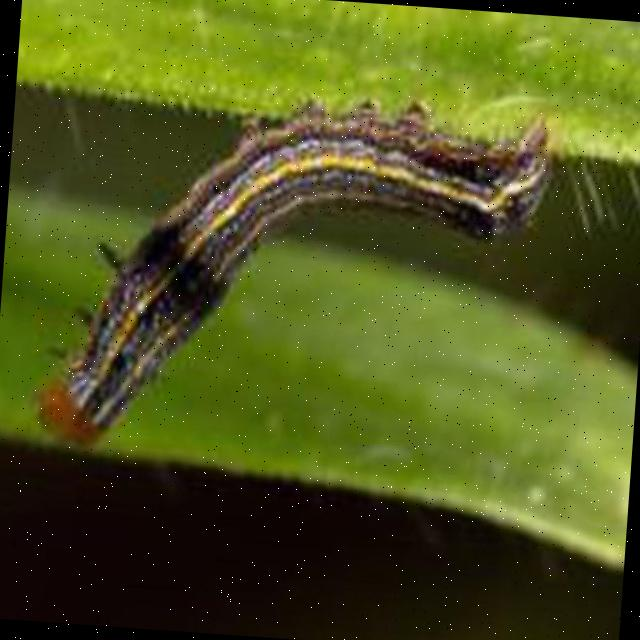worm: (35, 71, 559, 479)
